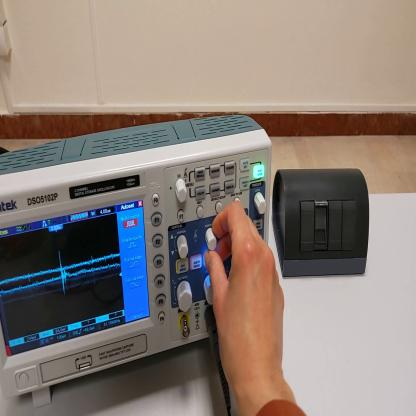hand: (206, 198, 287, 393)
oscilloscope: (2, 114, 273, 408)
